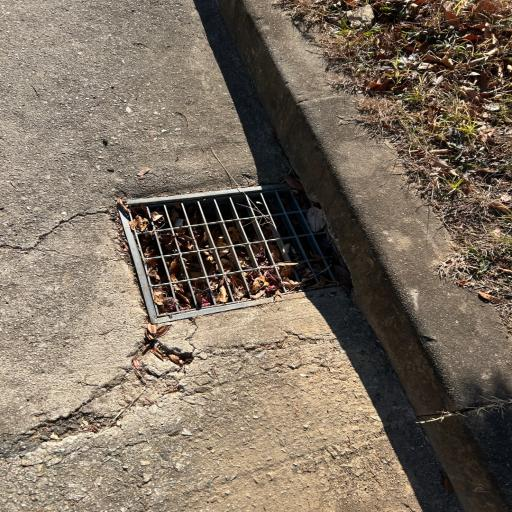debris: (204, 232, 298, 300), (155, 285, 176, 312), (170, 273, 186, 300), (212, 276, 227, 304), (246, 237, 264, 260), (145, 250, 159, 279), (193, 286, 207, 306), (133, 216, 147, 230), (186, 235, 197, 250), (191, 272, 203, 282), (229, 227, 238, 240), (270, 246, 278, 260), (166, 259, 175, 269), (151, 212, 157, 218), (183, 305, 190, 309)
drain: (129, 190, 355, 314)
